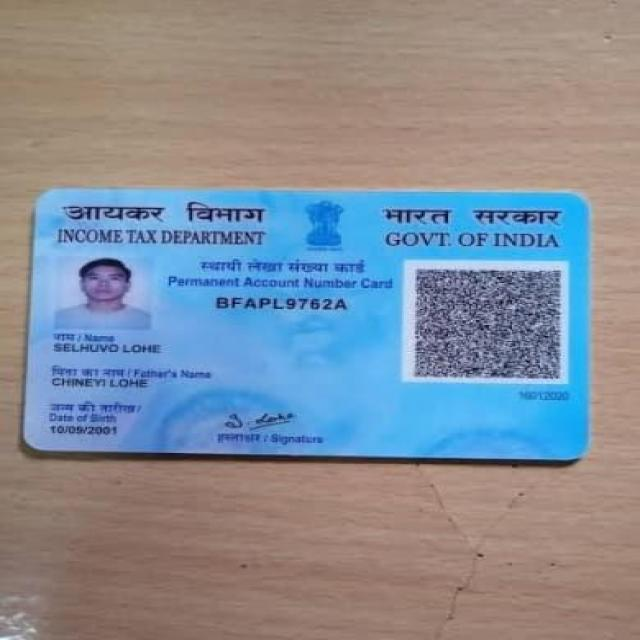pan_card: (23, 193, 586, 462)
